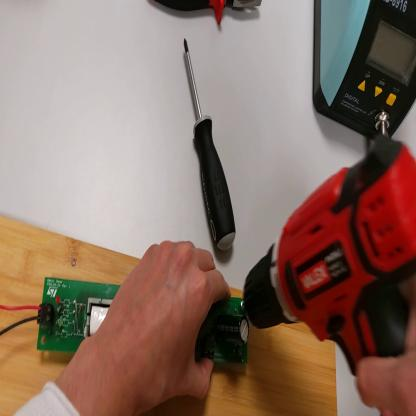electric screwdriver: (242, 135, 416, 374)
hand: (81, 236, 228, 411), (354, 274, 416, 415)
high voltage board: (2, 276, 251, 365)
pliers: (150, 3, 262, 28)
screwdriver-: (184, 40, 236, 258)
welder station: (312, 4, 415, 140)
working area: (1, 215, 339, 416)
